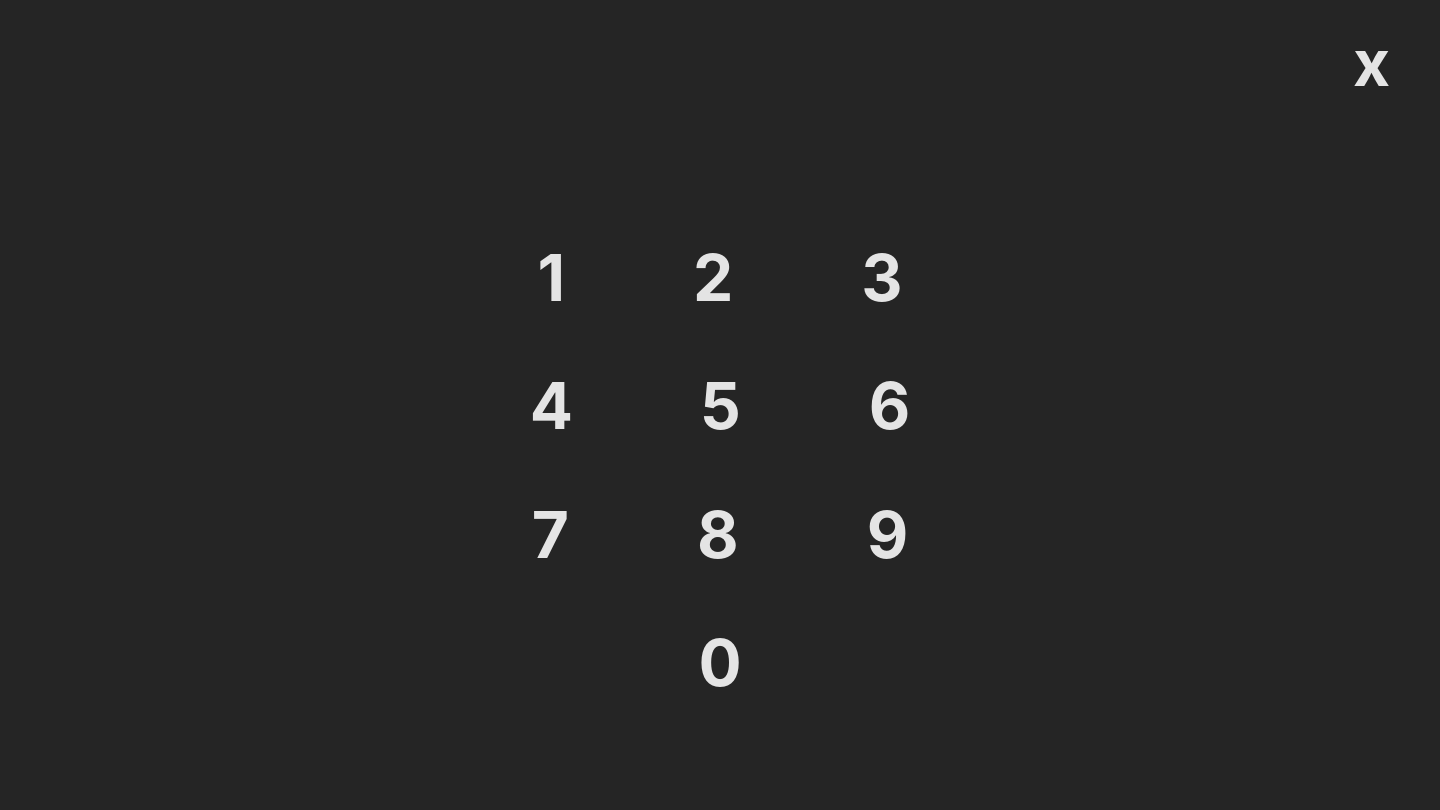
Test case: PinPad › displays the pin number entered
The width and height of the screenshot is (1440, 810).
Click the text with test id "PadNumber-1" at (551, 278), box [537,239,565,316]
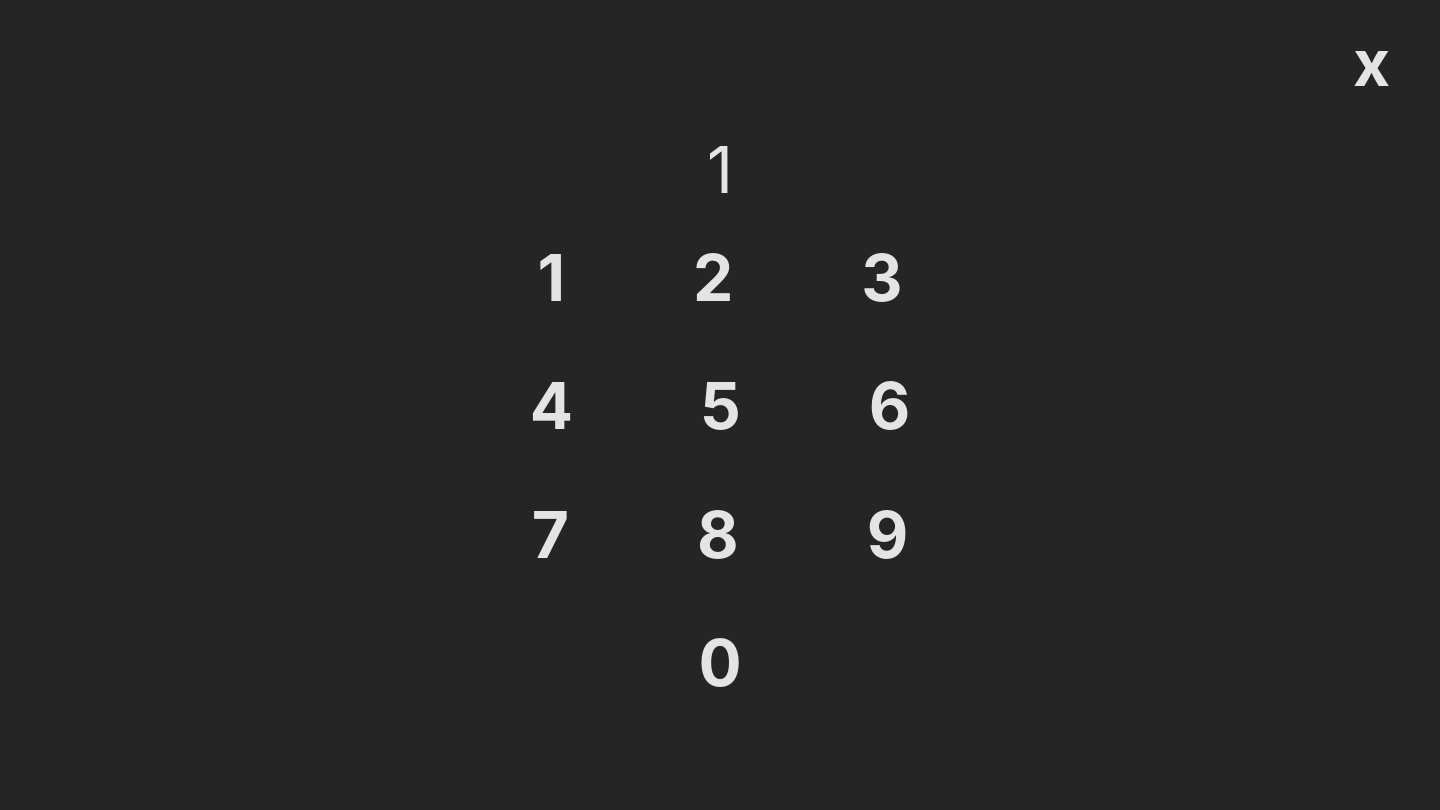
Click the text with test id "PadNumber-9" at (888, 534), box [867,496,908,573]
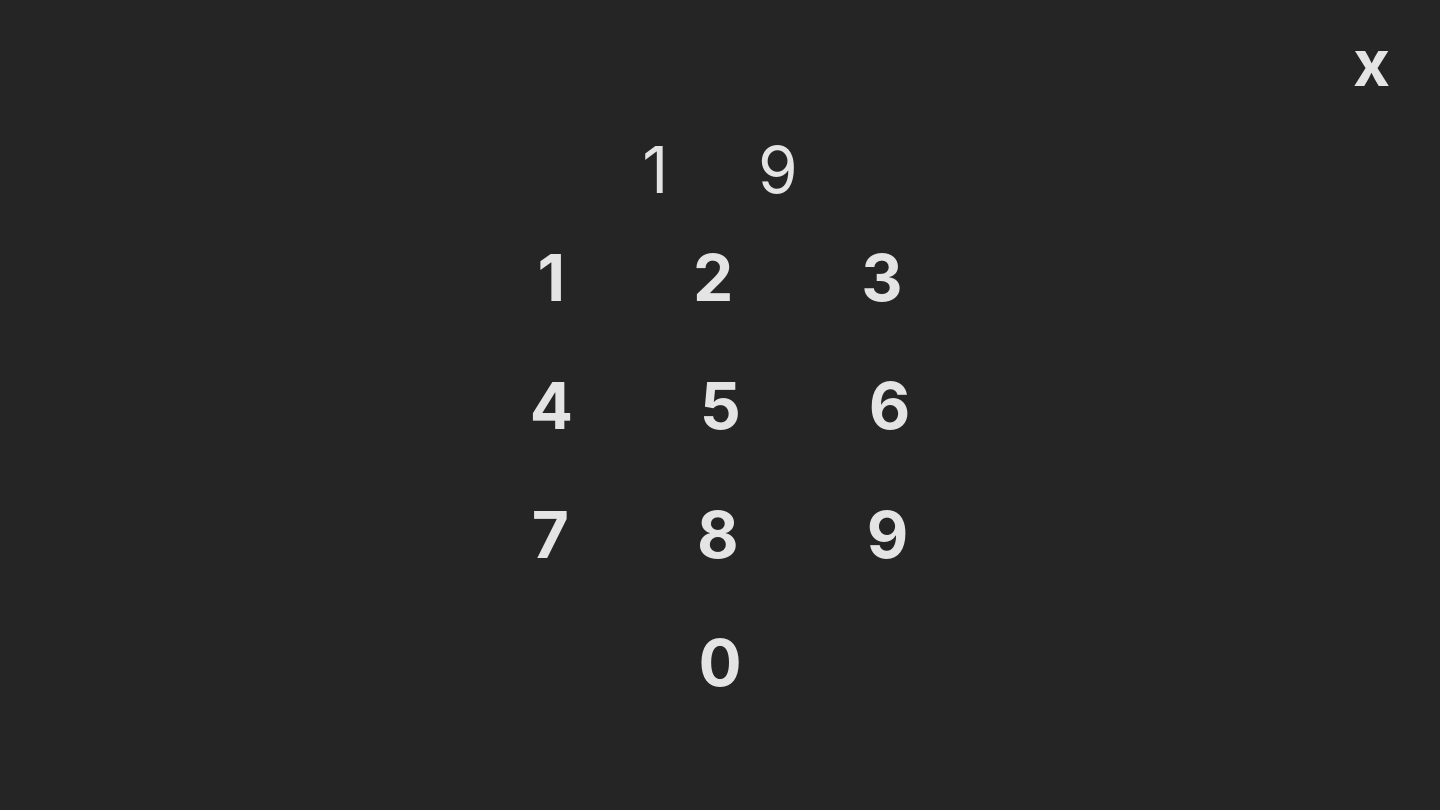
Check: the text with test id "PinNumber-1" is shown, box [642,131,668,208]
Check: the text with test id "PinNumber-9" is shown, box [758,131,798,208]
